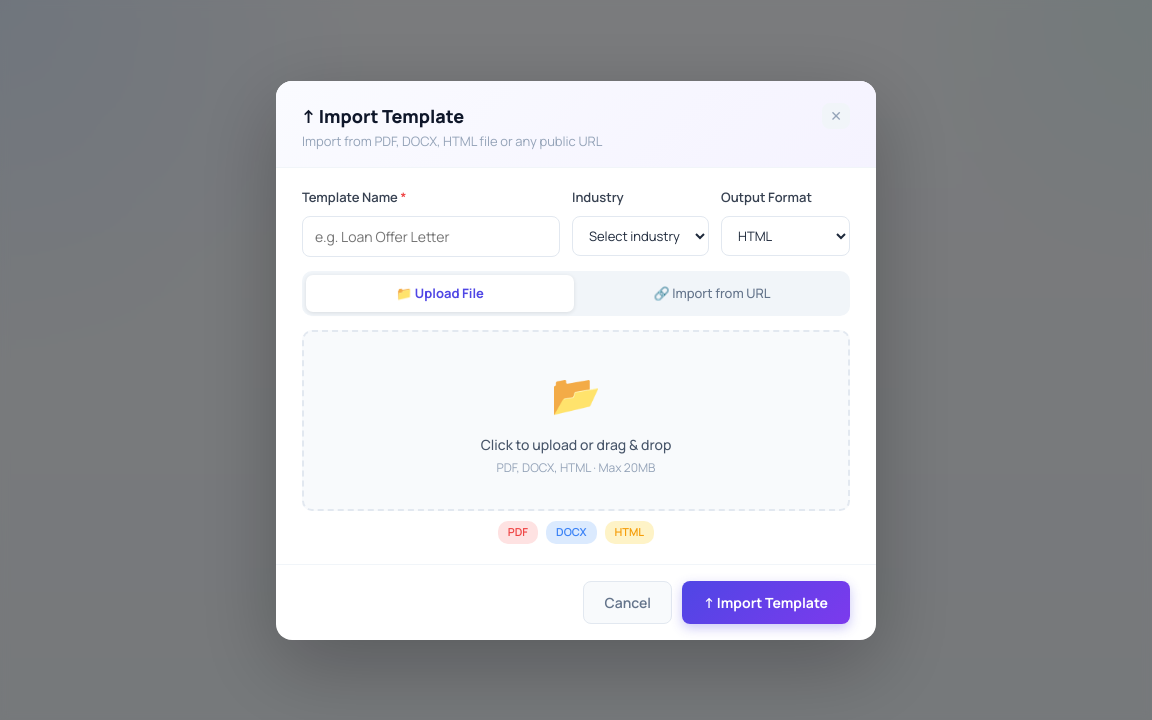
Test case: ImportTemplateModal › should_require_url_when_url_tab_is_selected
Click the button "🔗 Import from URL".
click(712, 293)  # box [578,274,846,312]
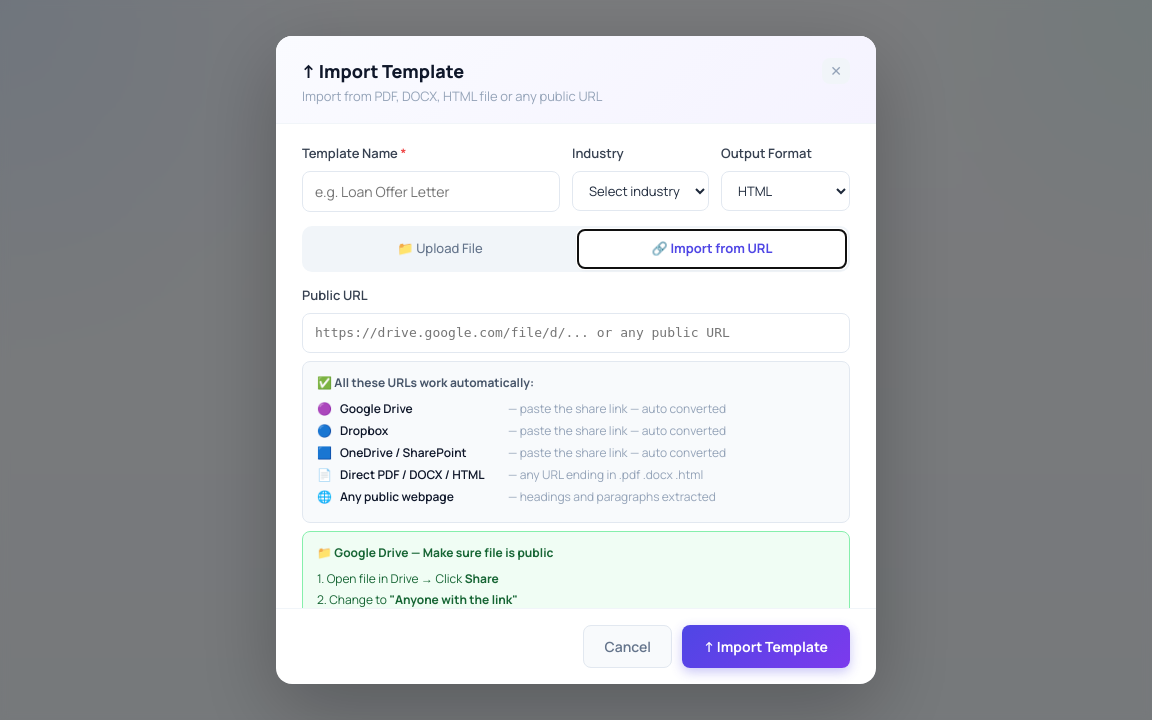
Type "Drive Import" into the field with placeholder "e.g. Loan Offer Letter".
click(431, 192); type("Drive Import")  # box [302,171,560,212]
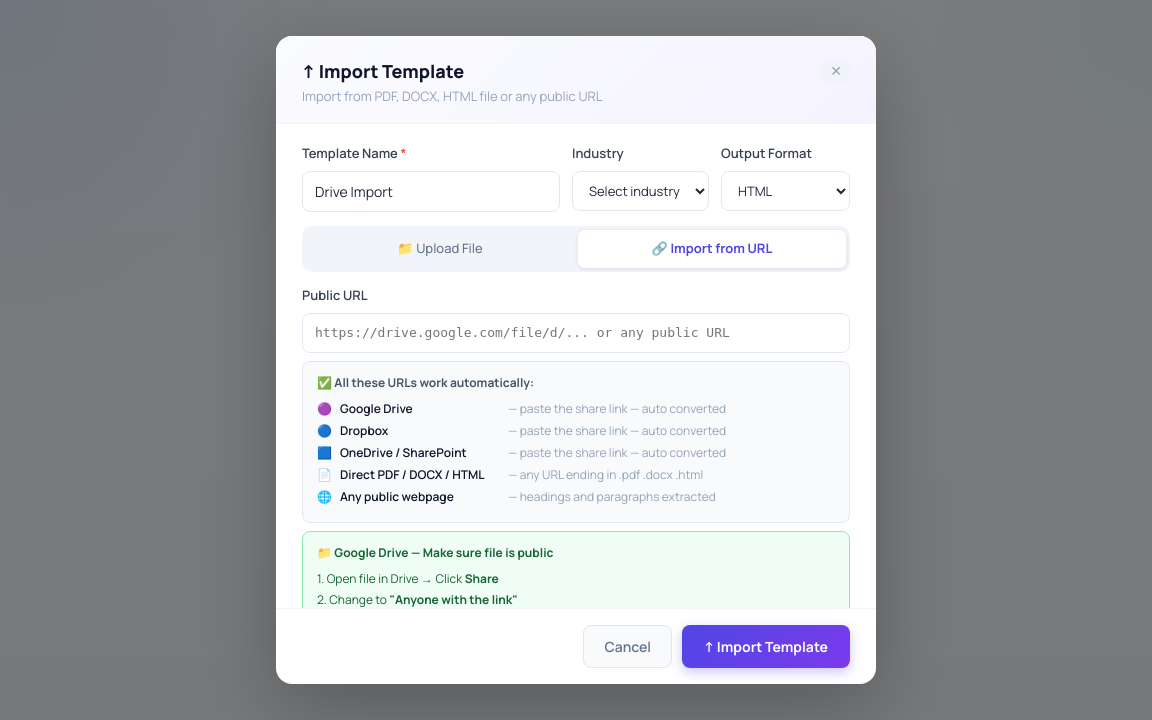
Click the button "↑ Import Template".
click(766, 646)  # box [682,625,850,668]
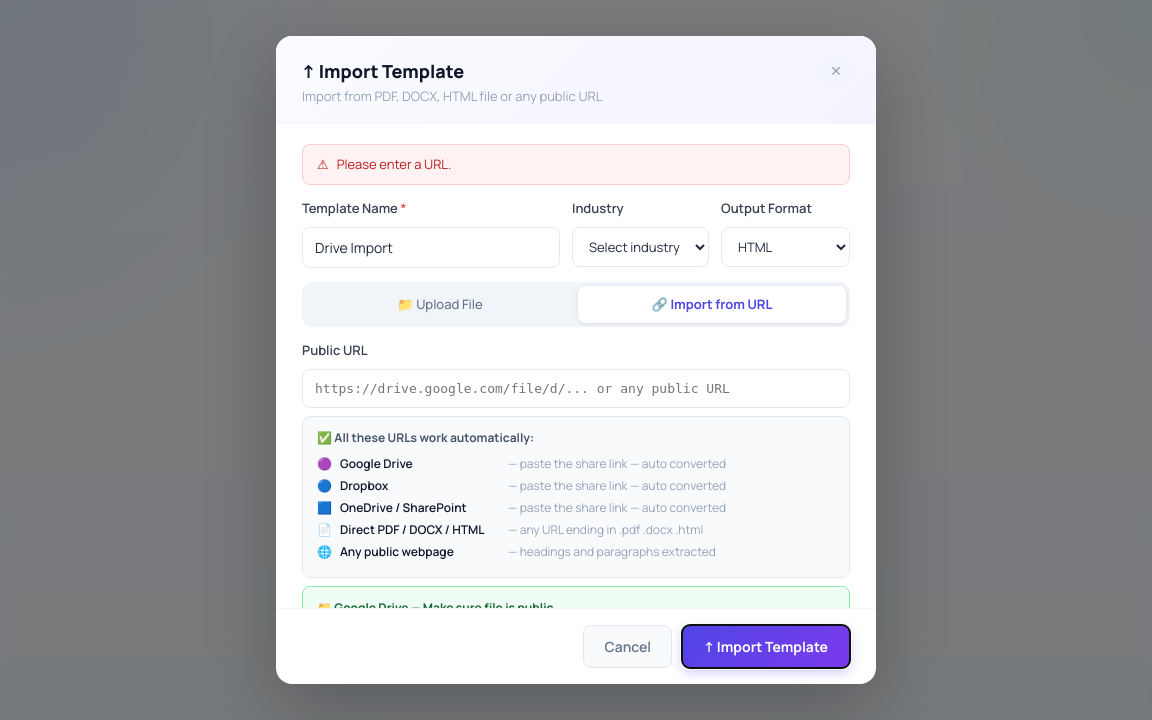
Expected: the text "Please enter a URL." is shown, [337,154,451,174]
